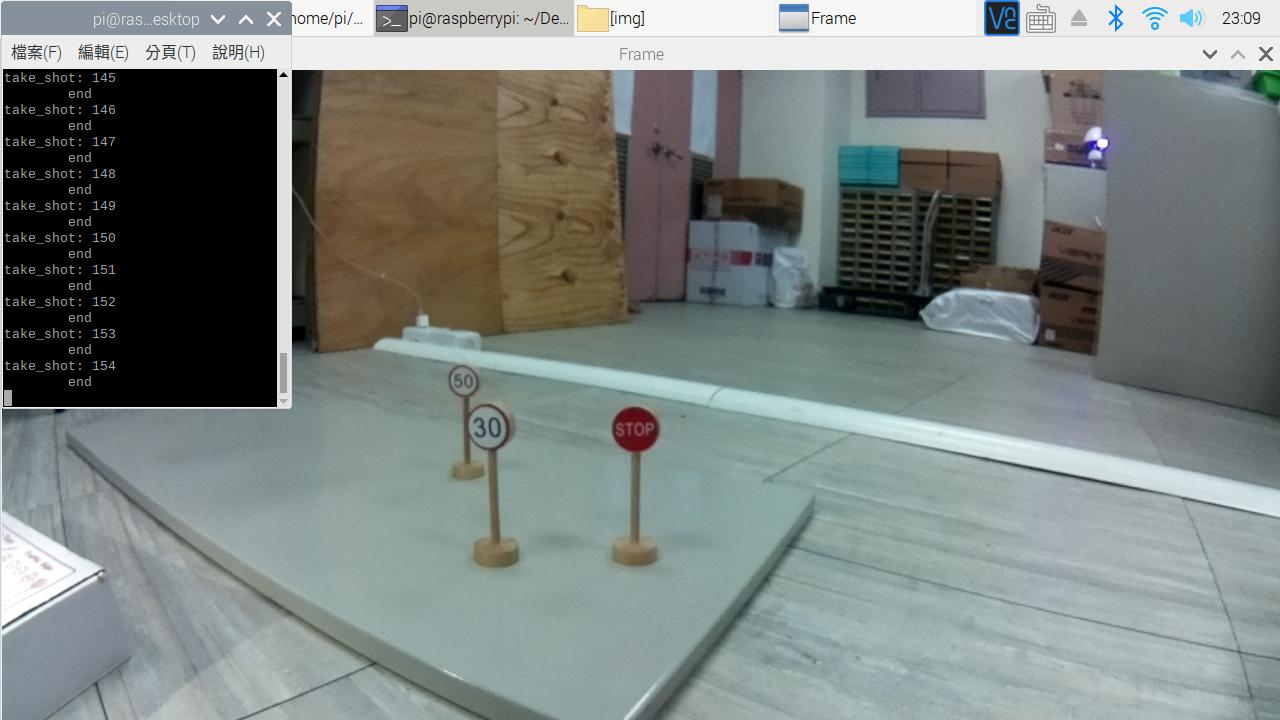Speed30: (463, 403, 525, 465)
Speed50: (437, 361, 495, 404)
Stop: (603, 400, 677, 470)
